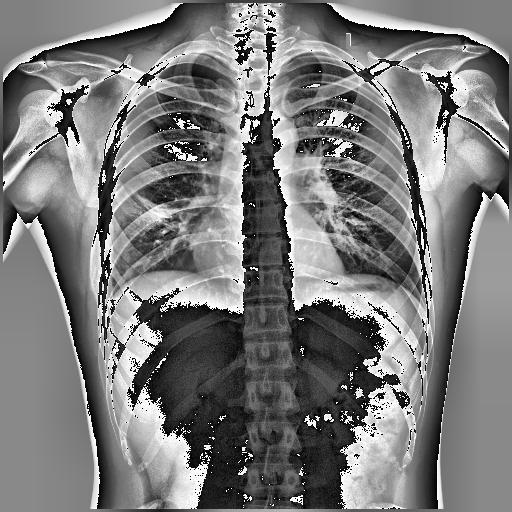10- Pleural effusion: (105, 283, 117, 310)
11- Pleural thickening: (124, 93, 139, 117), (364, 79, 382, 99), (105, 283, 117, 310)
13- Pulmonary fibrosis: (112, 184, 194, 240), (110, 180, 176, 218), (125, 183, 171, 219), (133, 105, 157, 124)
